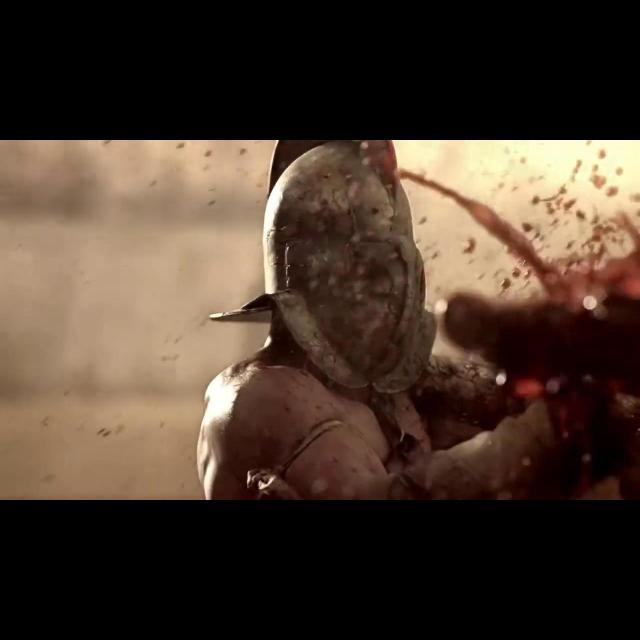blood: (396, 140, 640, 496)
